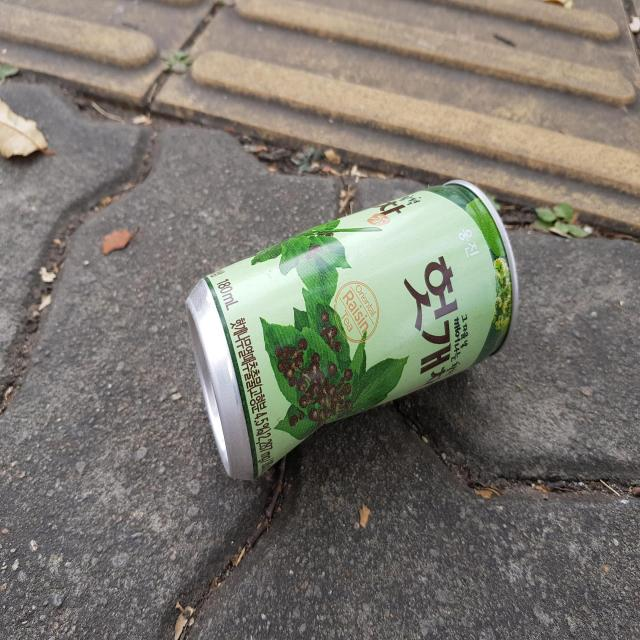can: (186, 180, 519, 480)
